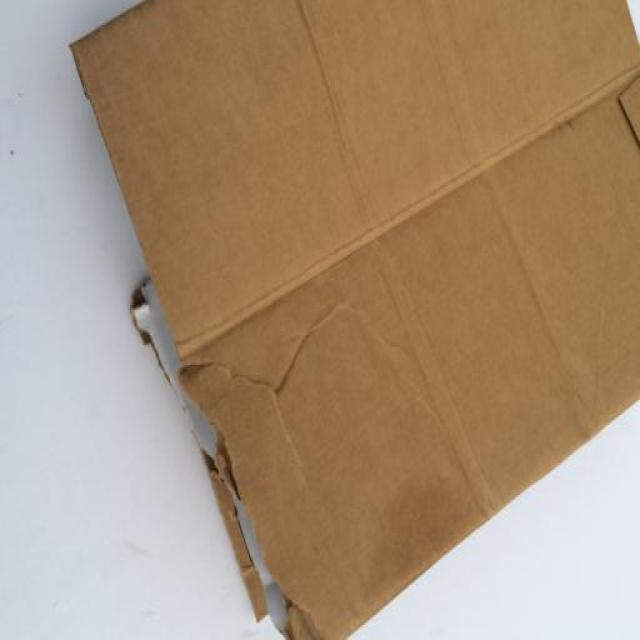cardboard: (68, 0, 640, 640)
